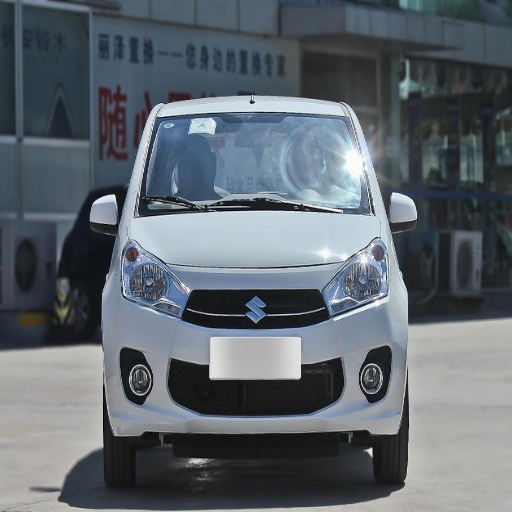front_bumper: (107, 261, 405, 434)
front_right_light: (121, 247, 182, 313)
hood: (132, 211, 377, 267)
